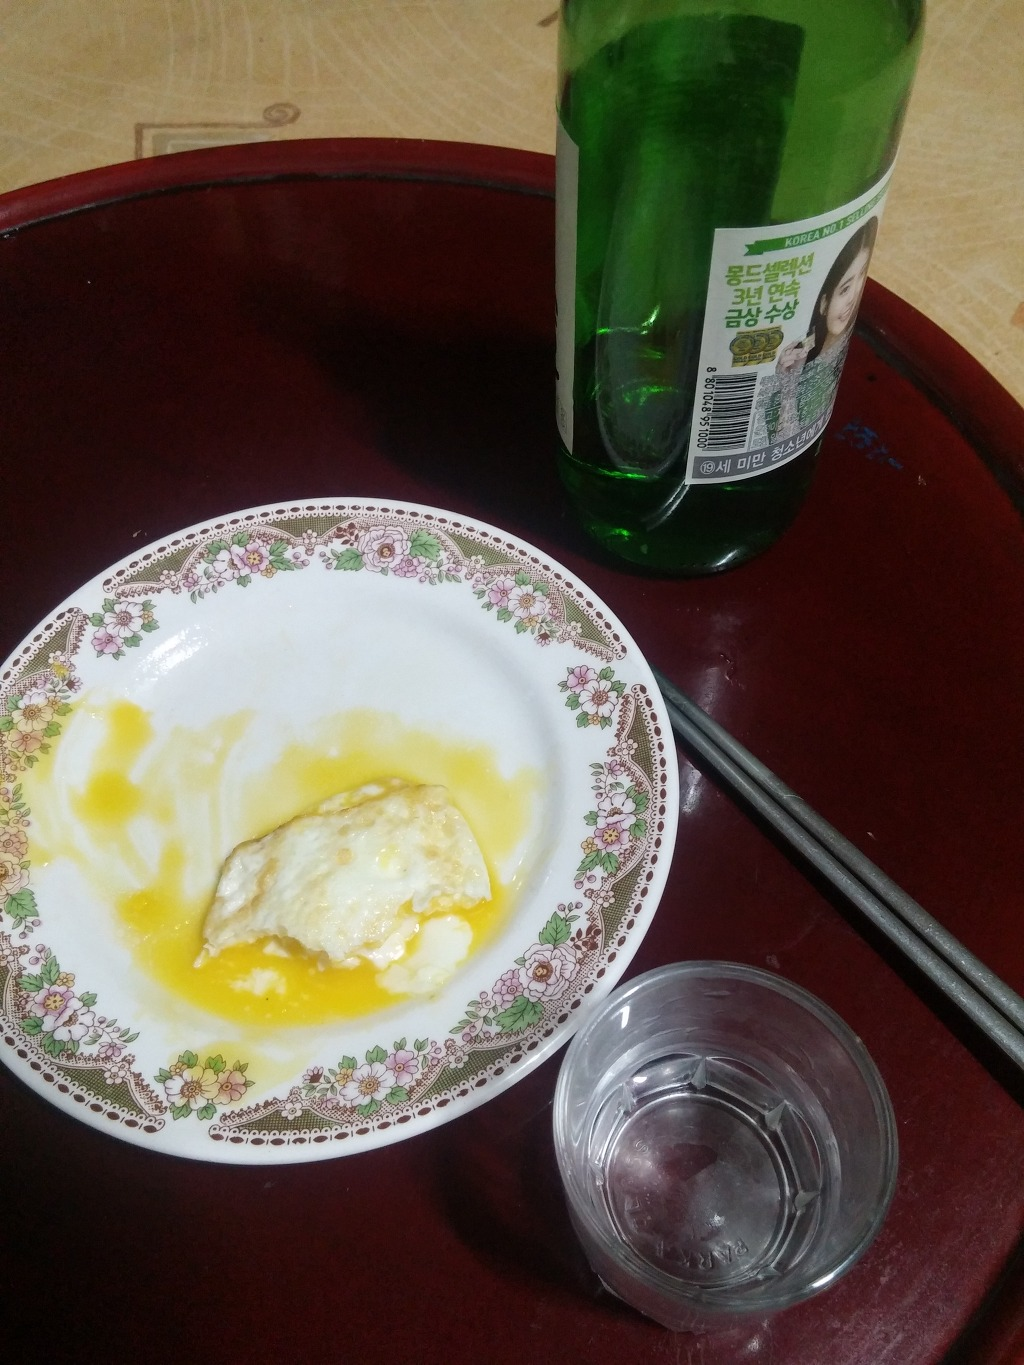gyelanhulai: (200, 780, 516, 998)
